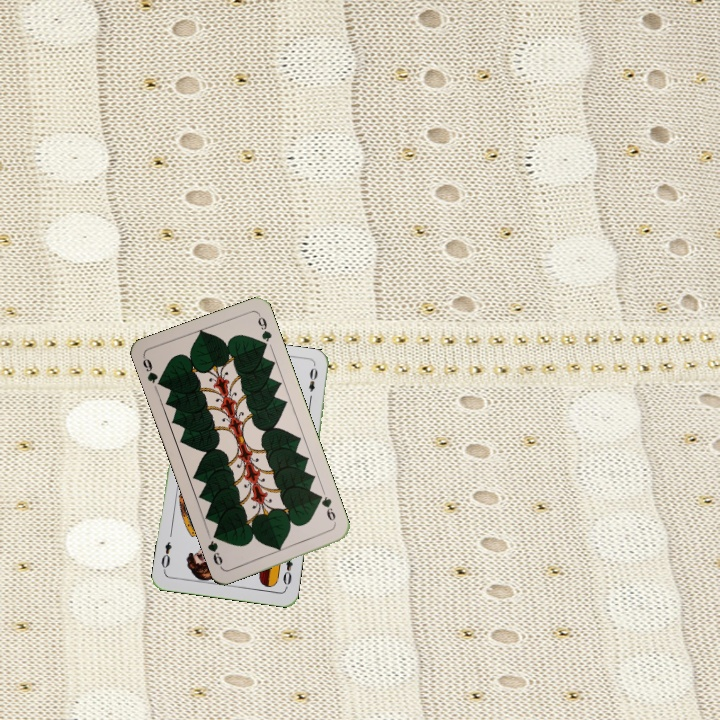EO: (279, 555, 295, 591)
G9: (138, 353, 166, 389), (314, 490, 339, 528)
